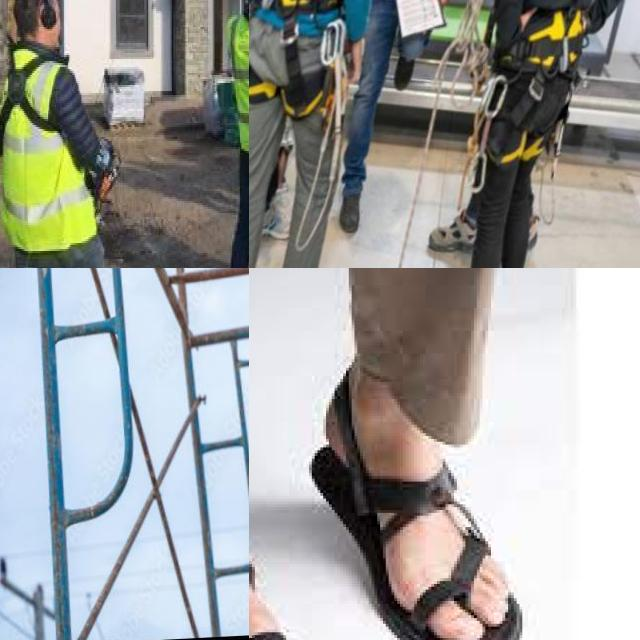Harness: (249, 0, 342, 120), (502, 0, 597, 74)
Sandals: (309, 371, 524, 640), (249, 482, 322, 640)
face_nomask: (36, 3, 71, 55)
head_nohelmet: (15, 0, 65, 9)
person: (0, 0, 119, 268), (225, 0, 249, 268)
vest: (0, 49, 96, 251), (229, 13, 249, 151)
